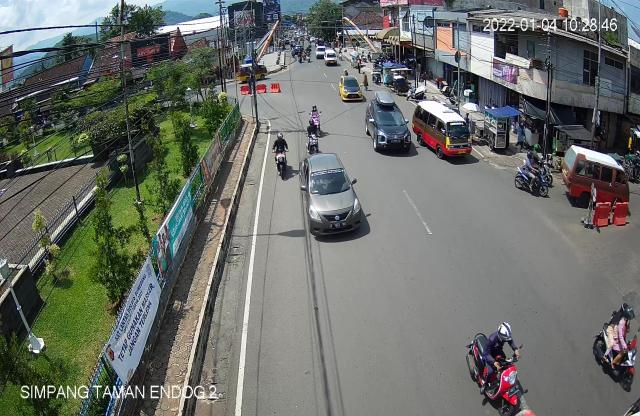Mobil: (298, 150, 367, 242), (559, 143, 634, 219), (412, 101, 475, 166), (360, 93, 416, 163)
Motor: (464, 322, 531, 416), (585, 302, 640, 395), (516, 142, 555, 196), (270, 128, 290, 181), (301, 118, 321, 154), (304, 99, 324, 134)
